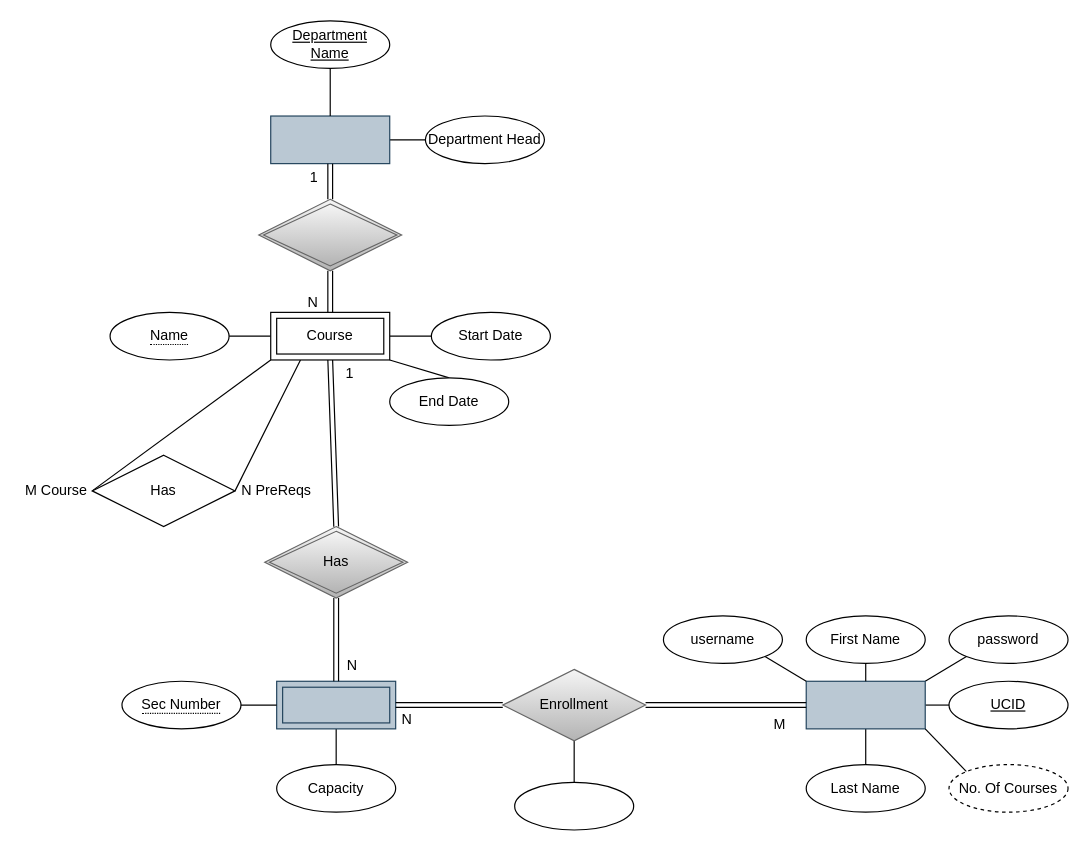
Some shapes in this 1089 by 851 pixel diagram are drawn without their labels. Here are the shapes that lost their labels. From the top down, the centre of each, then its label:
At (330,139): "Department".
At (330,234): "Offers".
At (335,704): "Section".
At (865,704): "Student".
At (573,805): "Grade".
